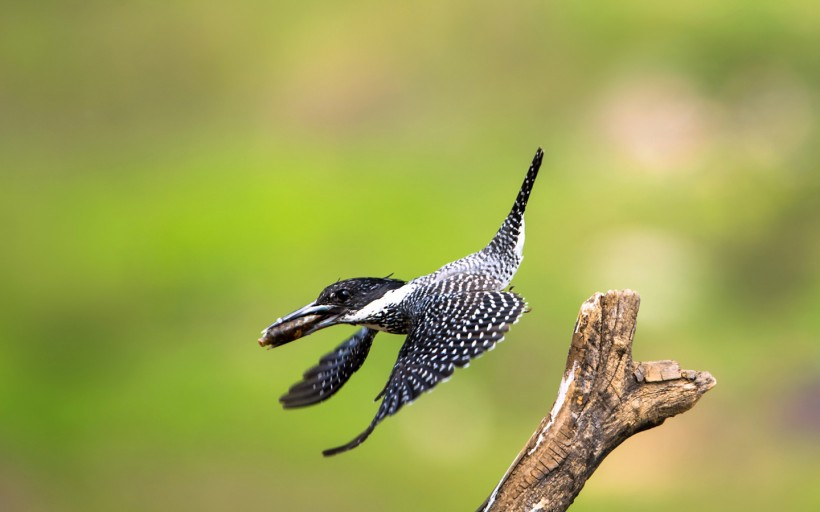bird: (259, 143, 547, 459)
